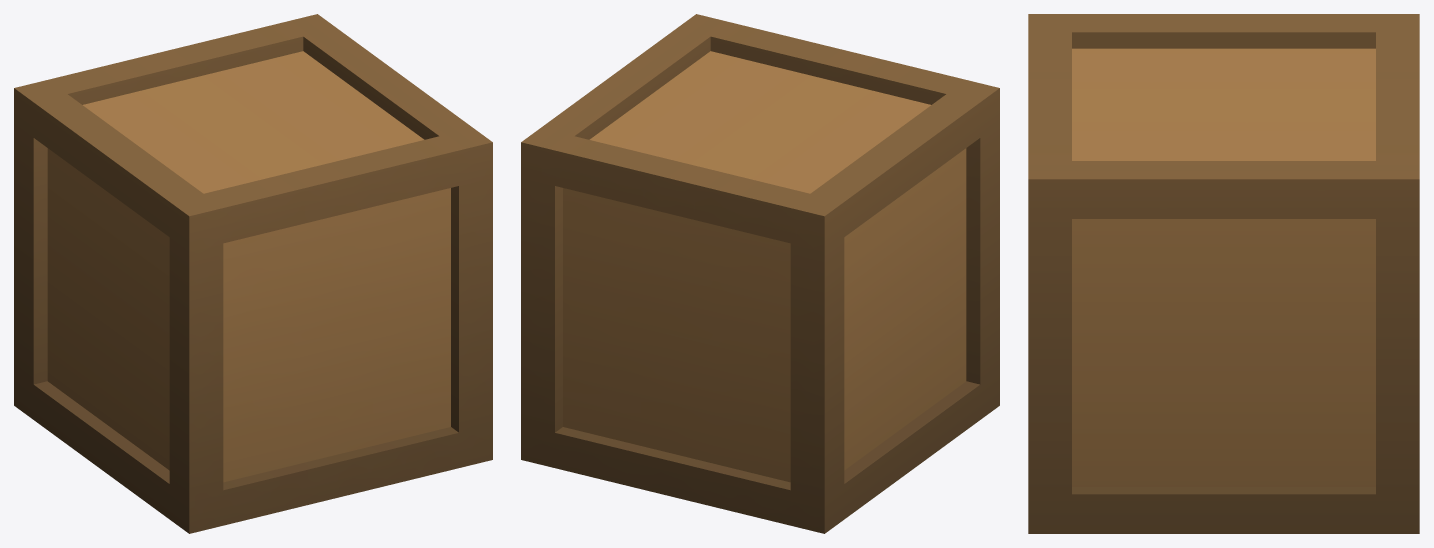
Rendered from Crate001.fbx.
3 views of the same model, side by side, from view 1: azimuth 30°, elevation 25°; view 2: azimuth 150°, elevation 25°; view 3: azimuth 270°, elevation 25° (orthographic). The views are drawn at different scales.
Visible parts, largest first — view 1: Cube.004; view 2: Cube.004; view 3: Cube.004.
Boxes of the visible parts, x1=… form: Cube.004: x1=14, y1=14, x2=492, y2=533; Cube.004: x1=521, y1=14, x2=999, y2=533; Cube.004: x1=1028, y1=14, x2=1419, y2=533.
Size of the model in its own units: 78.21 by 78.21 by 78.21.
